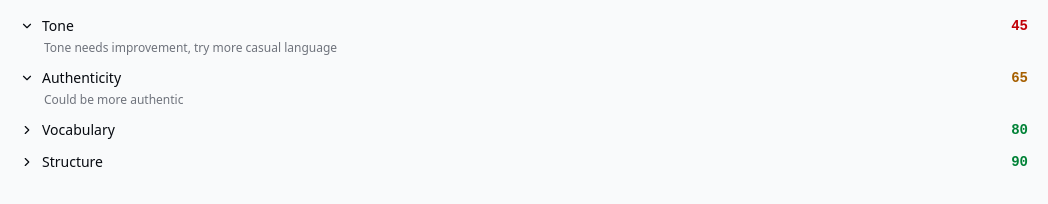
Test case: DimensionBreakdown › clicking a dimension >= 70 reveals its feedback
Click the button "Vocabulary 80" at (78, 130), box [12,116,1036,144]
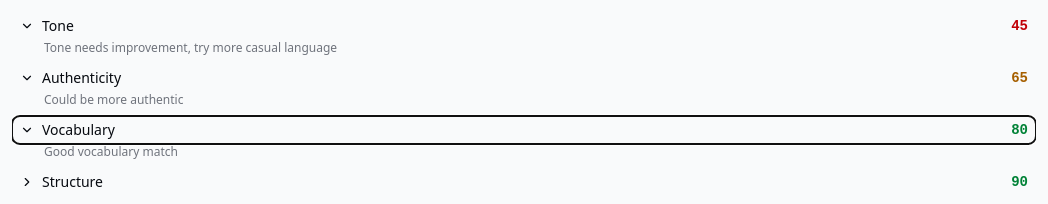
Now the text "Good vocabulary match" is shown, box [44,143,178,160]
